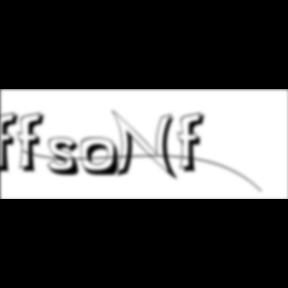N: (112, 109, 182, 183)
f: (18, 111, 50, 175), (178, 111, 210, 175), (0, 111, 24, 175)
o: (80, 137, 122, 179)
s: (48, 137, 86, 179)
